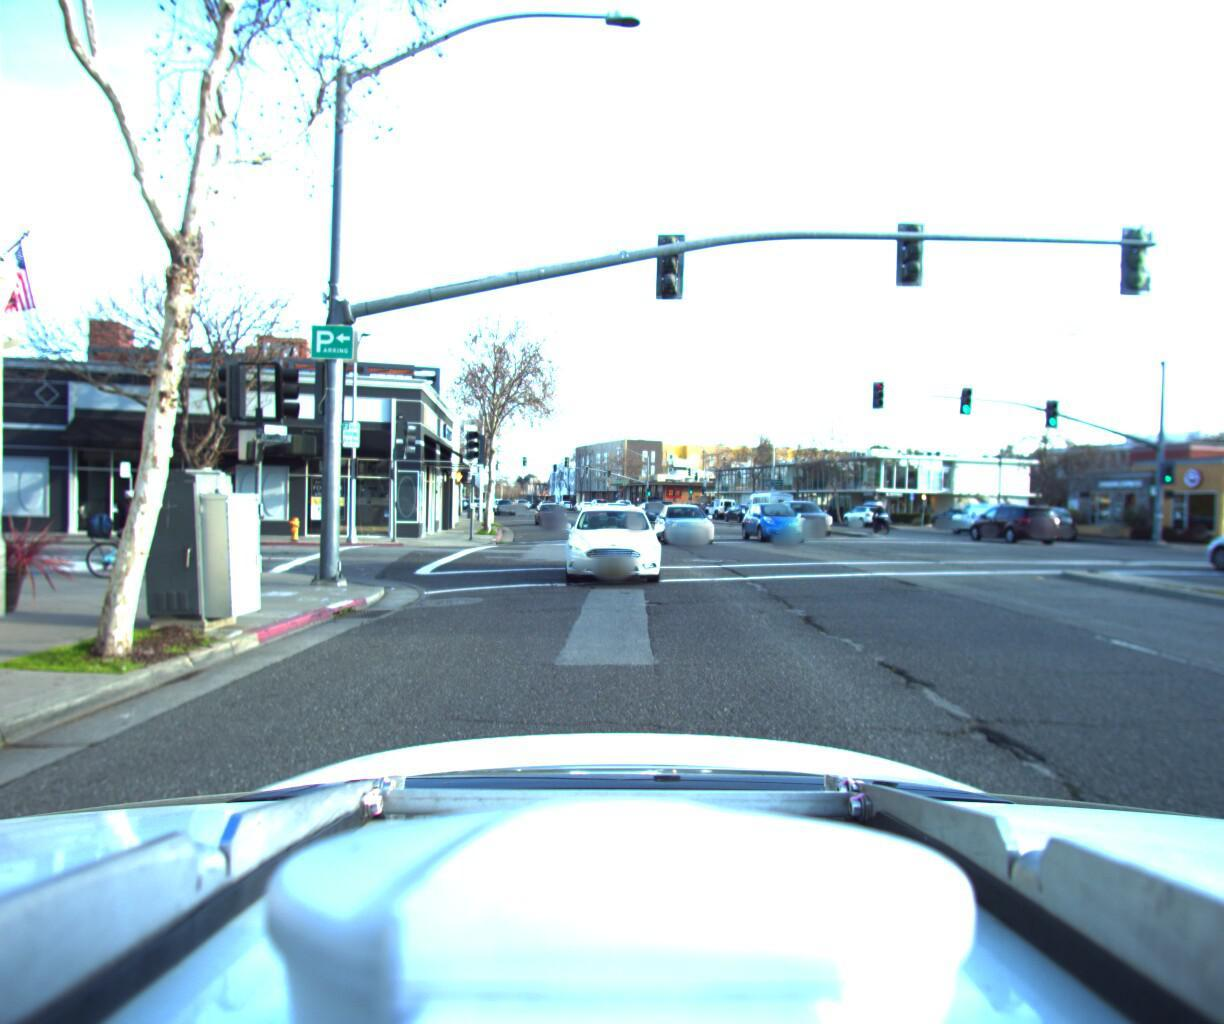bicycle: (61, 480, 186, 580)
bus: (744, 483, 795, 515)
car: (561, 498, 664, 588), (953, 496, 1052, 541), (1174, 507, 1224, 579), (746, 496, 820, 541), (658, 499, 726, 545), (946, 493, 1029, 529), (768, 490, 836, 527), (1007, 503, 1082, 533), (839, 492, 890, 520), (929, 499, 988, 519), (530, 498, 565, 525), (634, 498, 673, 521), (720, 495, 761, 516), (695, 490, 730, 513)
motorcycle: (857, 494, 888, 525)
